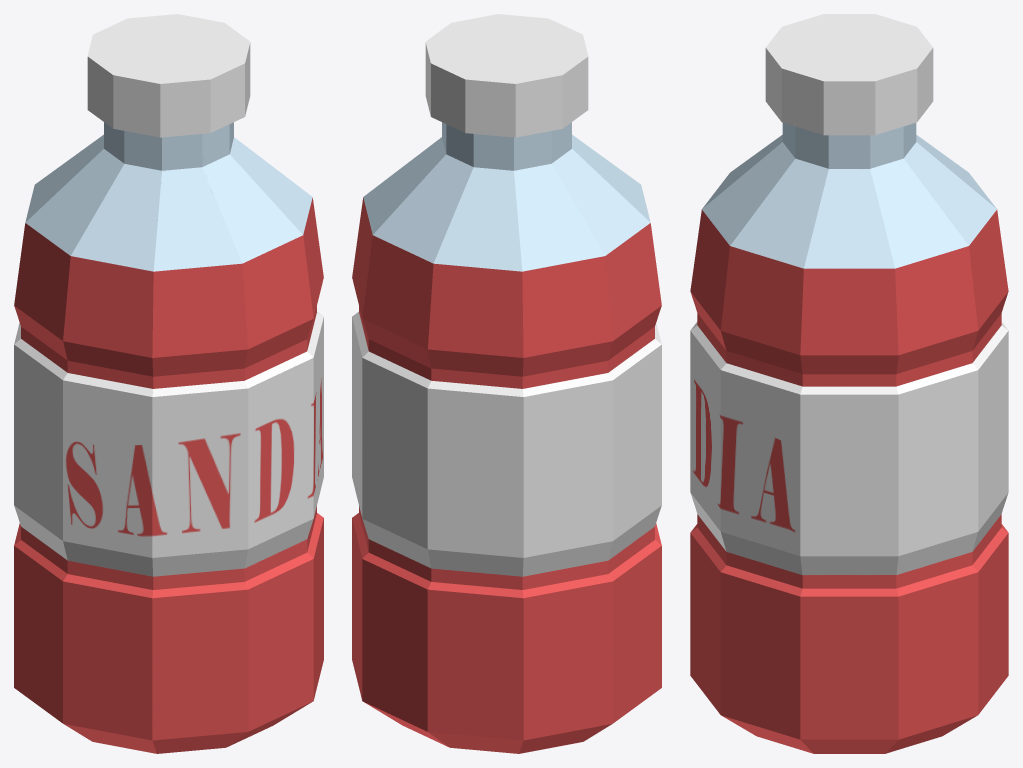
File: BotellaSandia.fbx
The picture shows the model from 3 angles, left to right: view 1: azimuth 30°, elevation 25°; view 2: azimuth 150°, elevation 25°; view 3: azimuth 270°, elevation 25°; orthographic projection.
Visible parts, largest first — view 1: p8_botella_agua_sandia; view 2: p8_botella_agua_sandia; view 3: p8_botella_agua_sandia.
Boxes of the visible parts, x1,y1,x2,y2 form: p8_botella_agua_sandia: (14,14,323,753); p8_botella_agua_sandia: (352,14,661,753); p8_botella_agua_sandia: (690,14,1008,753).
Bounding box in the file's own units: 0.2036 × 0.49 × 0.2141.
